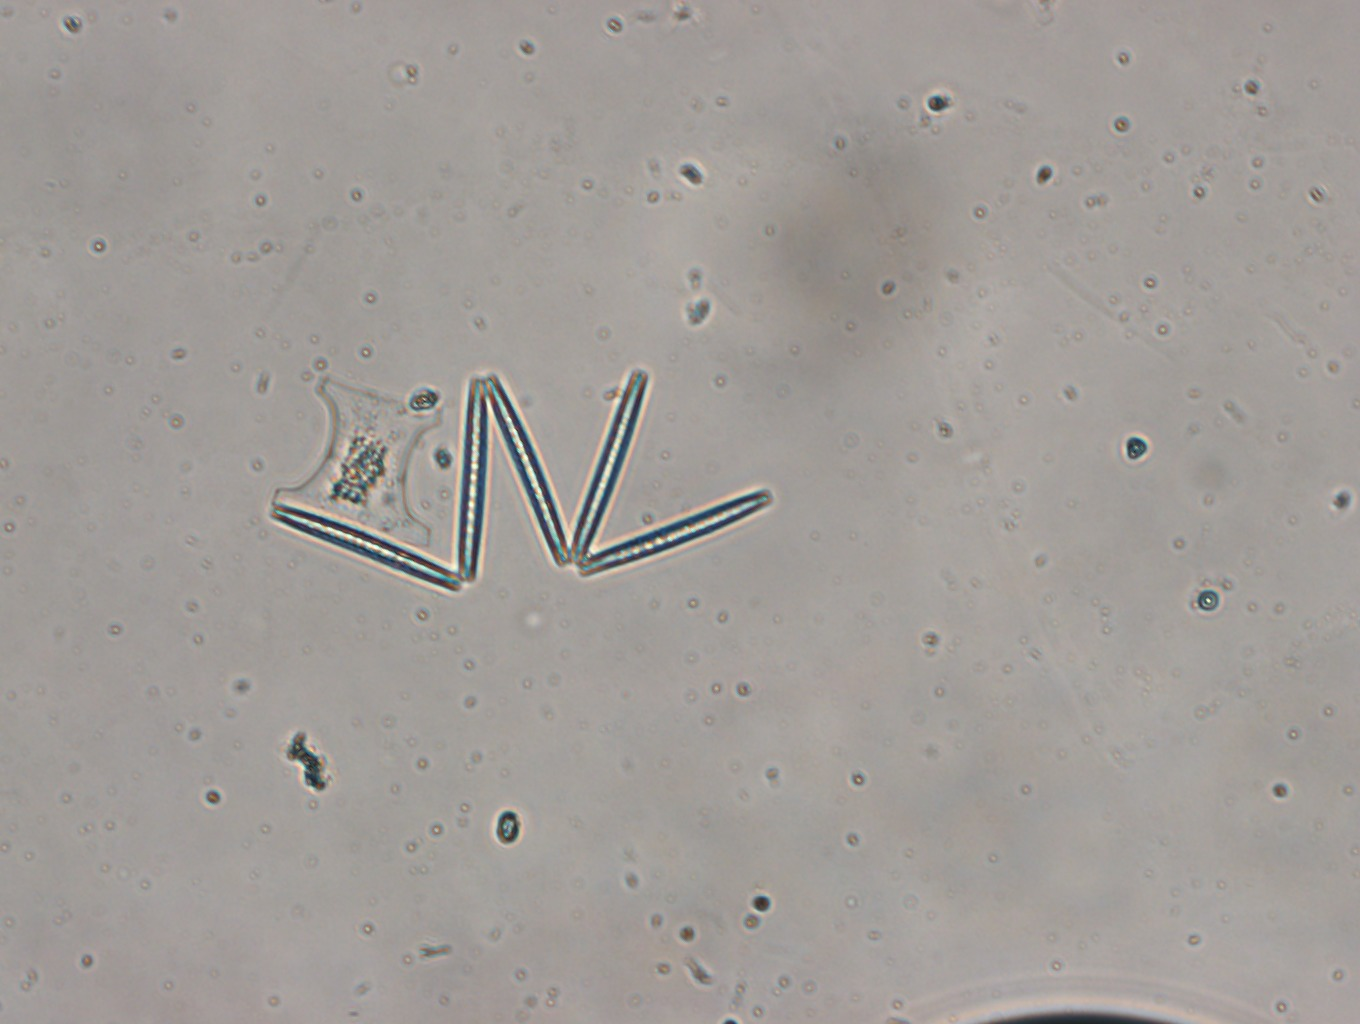eucampia: (269, 373, 445, 550)
thalassionema nitzschioides: (268, 370, 776, 595)
